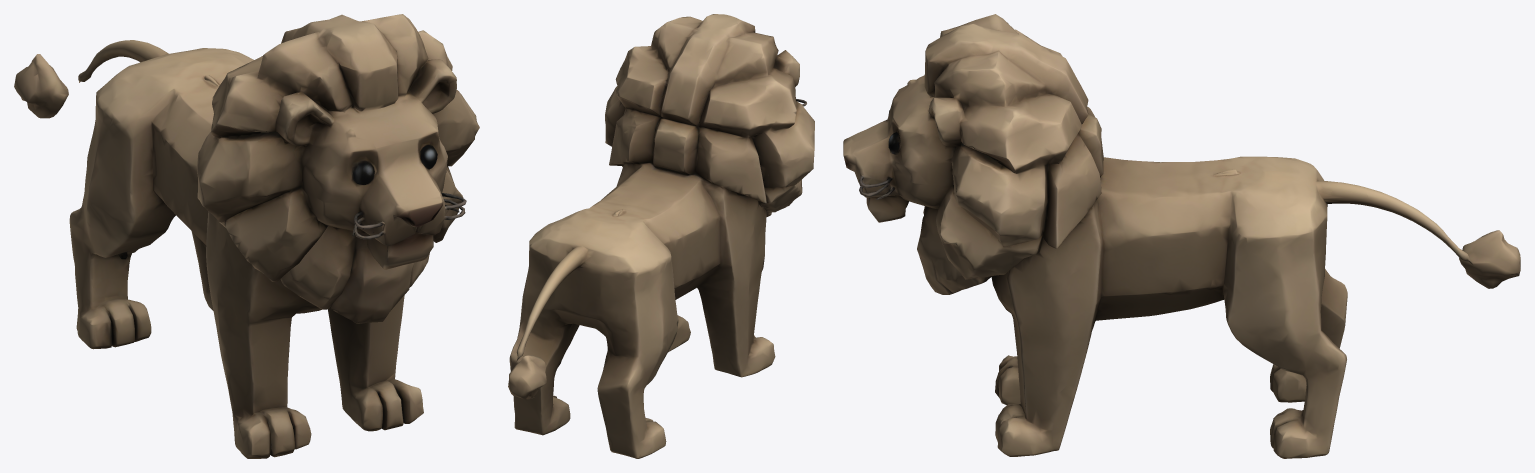
File: lion.glb
3 renders of one model, left to right at view 1: azimuth 30°, elevation 25°; view 2: azimuth 150°, elevation 25°; view 3: azimuth 270°, elevation 25°, orthographic. The views are drawn at different scales.
Visible parts, largest first — view 1: tripo_node_bdd2f635-abc3-4b3b-8735-9a10c356266d; view 2: tripo_node_bdd2f635-abc3-4b3b-8735-9a10c356266d; view 3: tripo_node_bdd2f635-abc3-4b3b-8735-9a10c356266d.
Boxes of the visible parts, x1=… form: tripo_node_bdd2f635-abc3-4b3b-8735-9a10c356266d: x1=14, y1=14, x2=479, y2=458; tripo_node_bdd2f635-abc3-4b3b-8735-9a10c356266d: x1=508, y1=14, x2=814, y2=458; tripo_node_bdd2f635-abc3-4b3b-8735-9a10c356266d: x1=843, y1=14, x2=1520, y2=458.
Bounding box in the file's own units: 0.4288 × 0.6315 × 1.
1 material, 1 textured.
